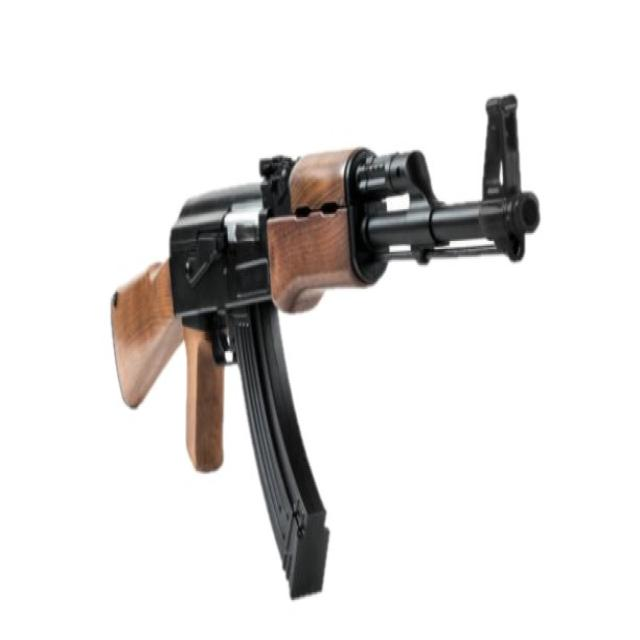rifle: (104, 88, 545, 606)
